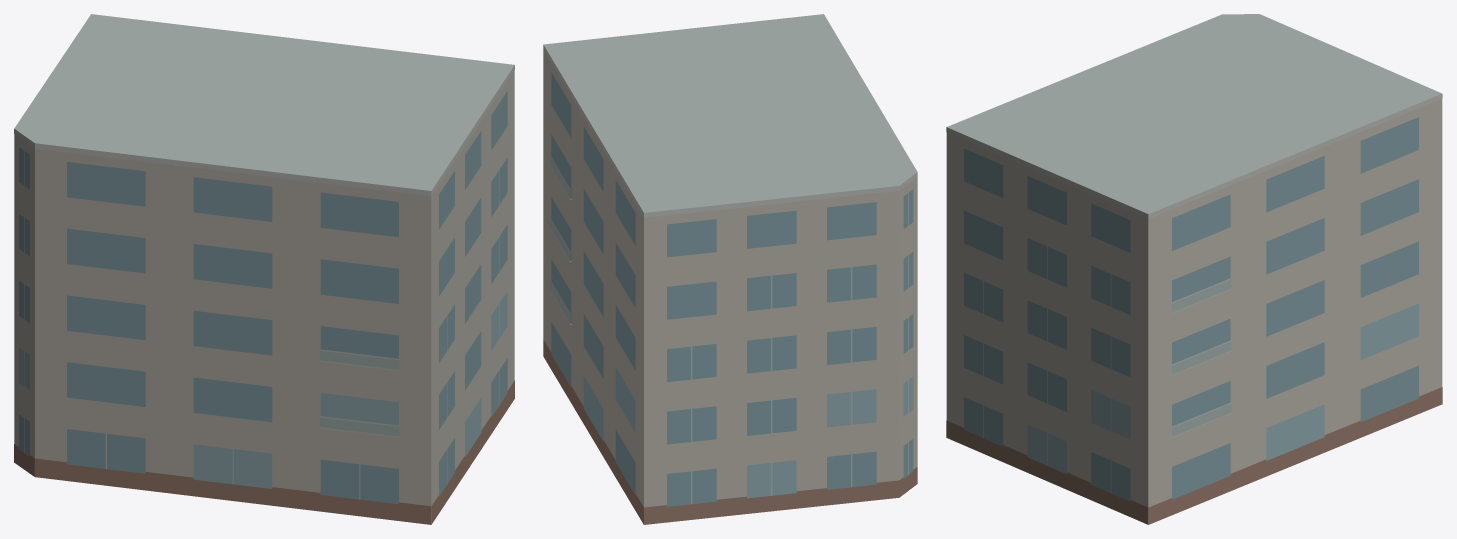
File: survey-upis-32790634.glb
The picture shows the model from 3 angles, left to right: view 1: azimuth 30°, elevation 25°; view 2: azimuth 150°, elevation 25°; view 3: azimuth 270°, elevation 25°; orthographic projection. The views are drawn at different scales.
Visible parts, largest first — view 1: survey-upis-32790634.tmp; view 2: survey-upis-32790634.tmp; view 3: survey-upis-32790634.tmp.
Part boxes in pixels (x1=…): survey-upis-32790634.tmp: x1=14, y1=14, x2=514, y2=524; survey-upis-32790634.tmp: x1=543, y1=14, x2=917, y2=524; survey-upis-32790634.tmp: x1=946, y1=14, x2=1442, y2=524.
Bounding box in the file's own units: 21.08 × 15.25 × 22.06.
